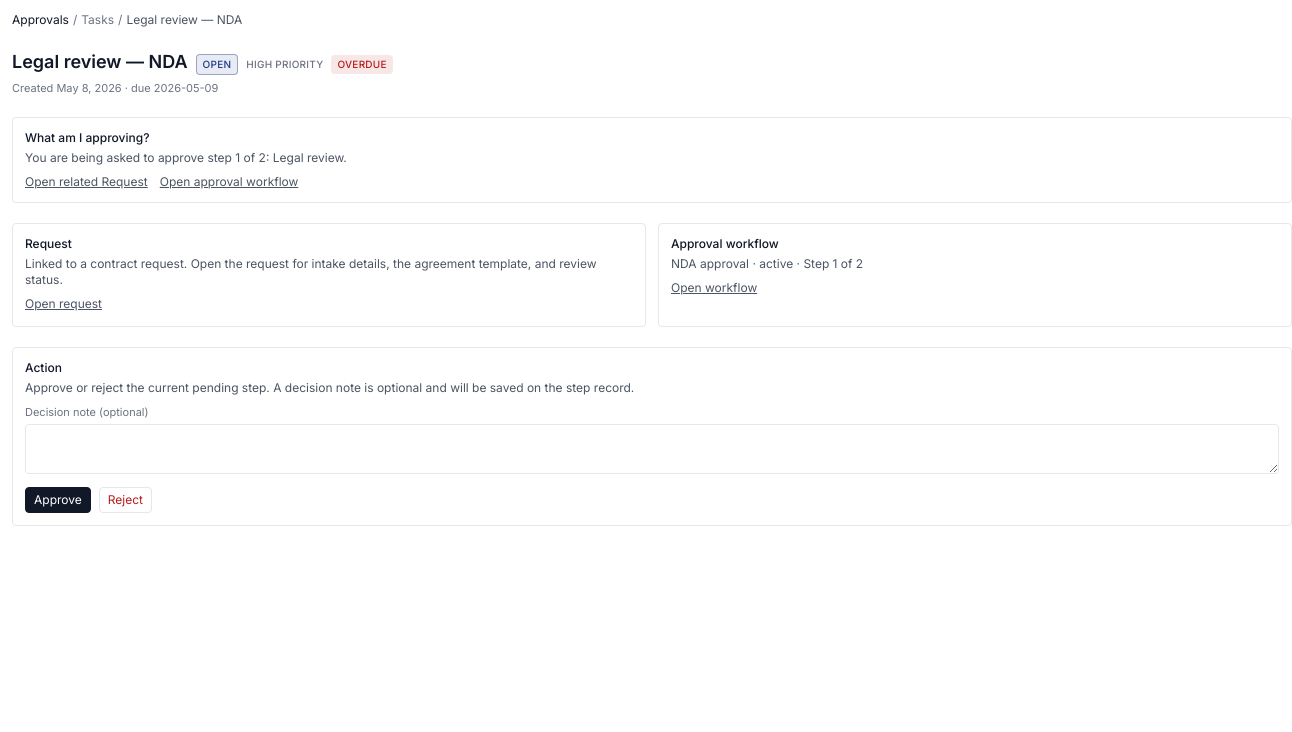
ApprovalTaskDetailPage › approve POSTs to the step and refreshes the task + workflow
Click the button with test id "approval-task-detail-approve" at (58, 500), box left=25, top=486, right=91, bottom=512
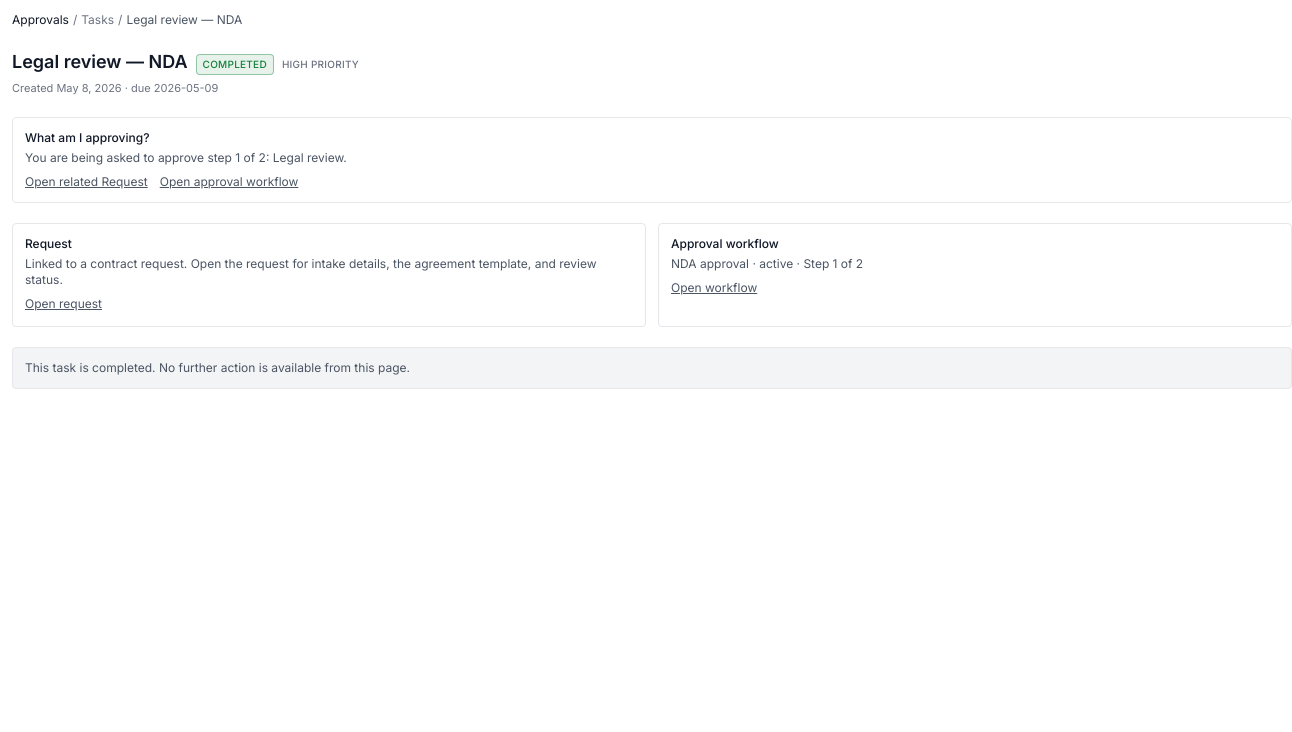
Now the text with test id "approval-task-detail-resolved" is shown, box left=12, top=346, right=1291, bottom=388
